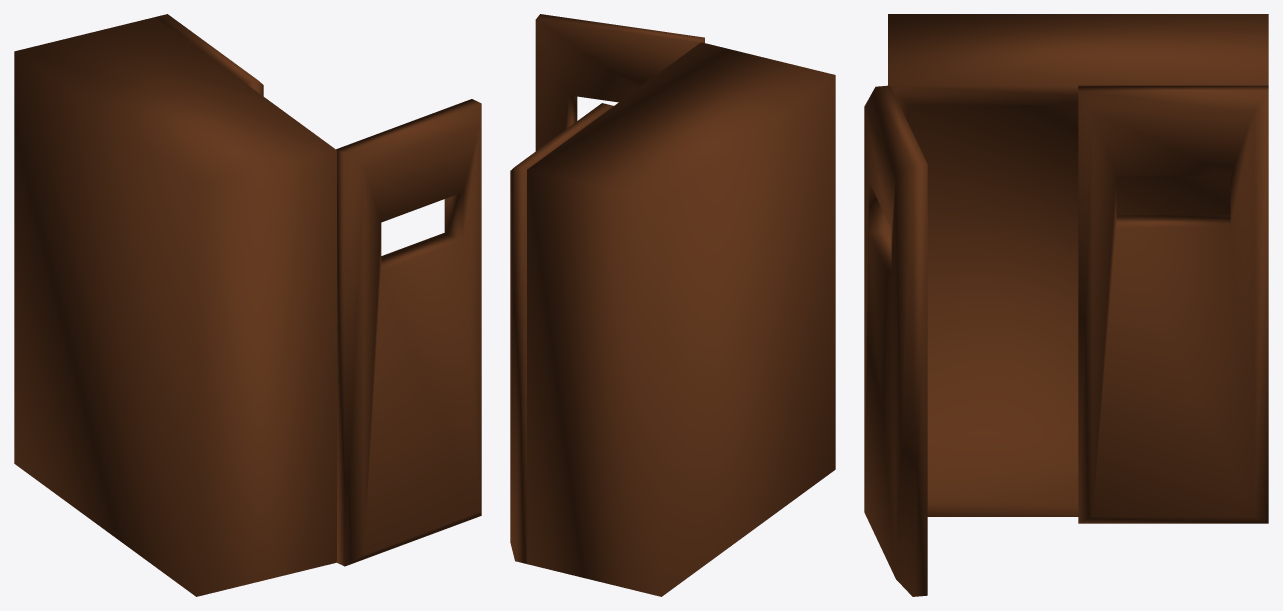
The model's file is Konstruktor.fbx.
The picture shows the model from 3 angles, left to right: view 1: azimuth 30°, elevation 25°; view 2: azimuth 150°, elevation 25°; view 3: azimuth 270°, elevation 25°; orthographic projection. The views are drawn at different scales.
Visible parts, largest first — view 1: Box, Door2, Door; view 2: Box, Door2, Door; view 3: Box, Door, Door2.
Boxes of the visible parts, x1,y1,x2,y2 form: Box: (14, 17, 336, 596); Door2: (336, 99, 481, 566); Door: (155, 14, 263, 96); Box: (527, 42, 835, 596); Door2: (535, 14, 704, 150); Door: (510, 103, 613, 563); Box: (888, 14, 1268, 516); Door: (1078, 85, 1268, 523); Door2: (864, 85, 927, 596).
Size of the model in its own units: 188 by 250 by 212.
